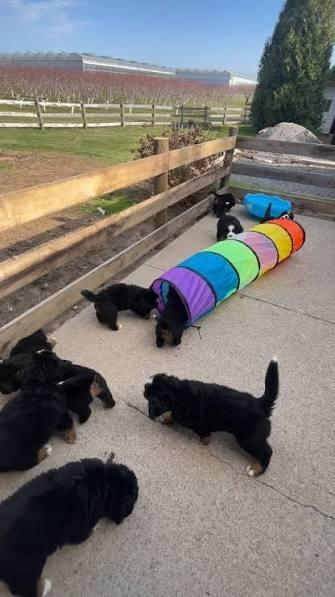puppy-dog: (0, 453, 139, 597), (142, 353, 281, 478), (0, 330, 115, 425), (0, 372, 90, 472), (80, 281, 159, 331), (155, 283, 190, 349), (215, 210, 244, 243), (210, 193, 242, 219)
